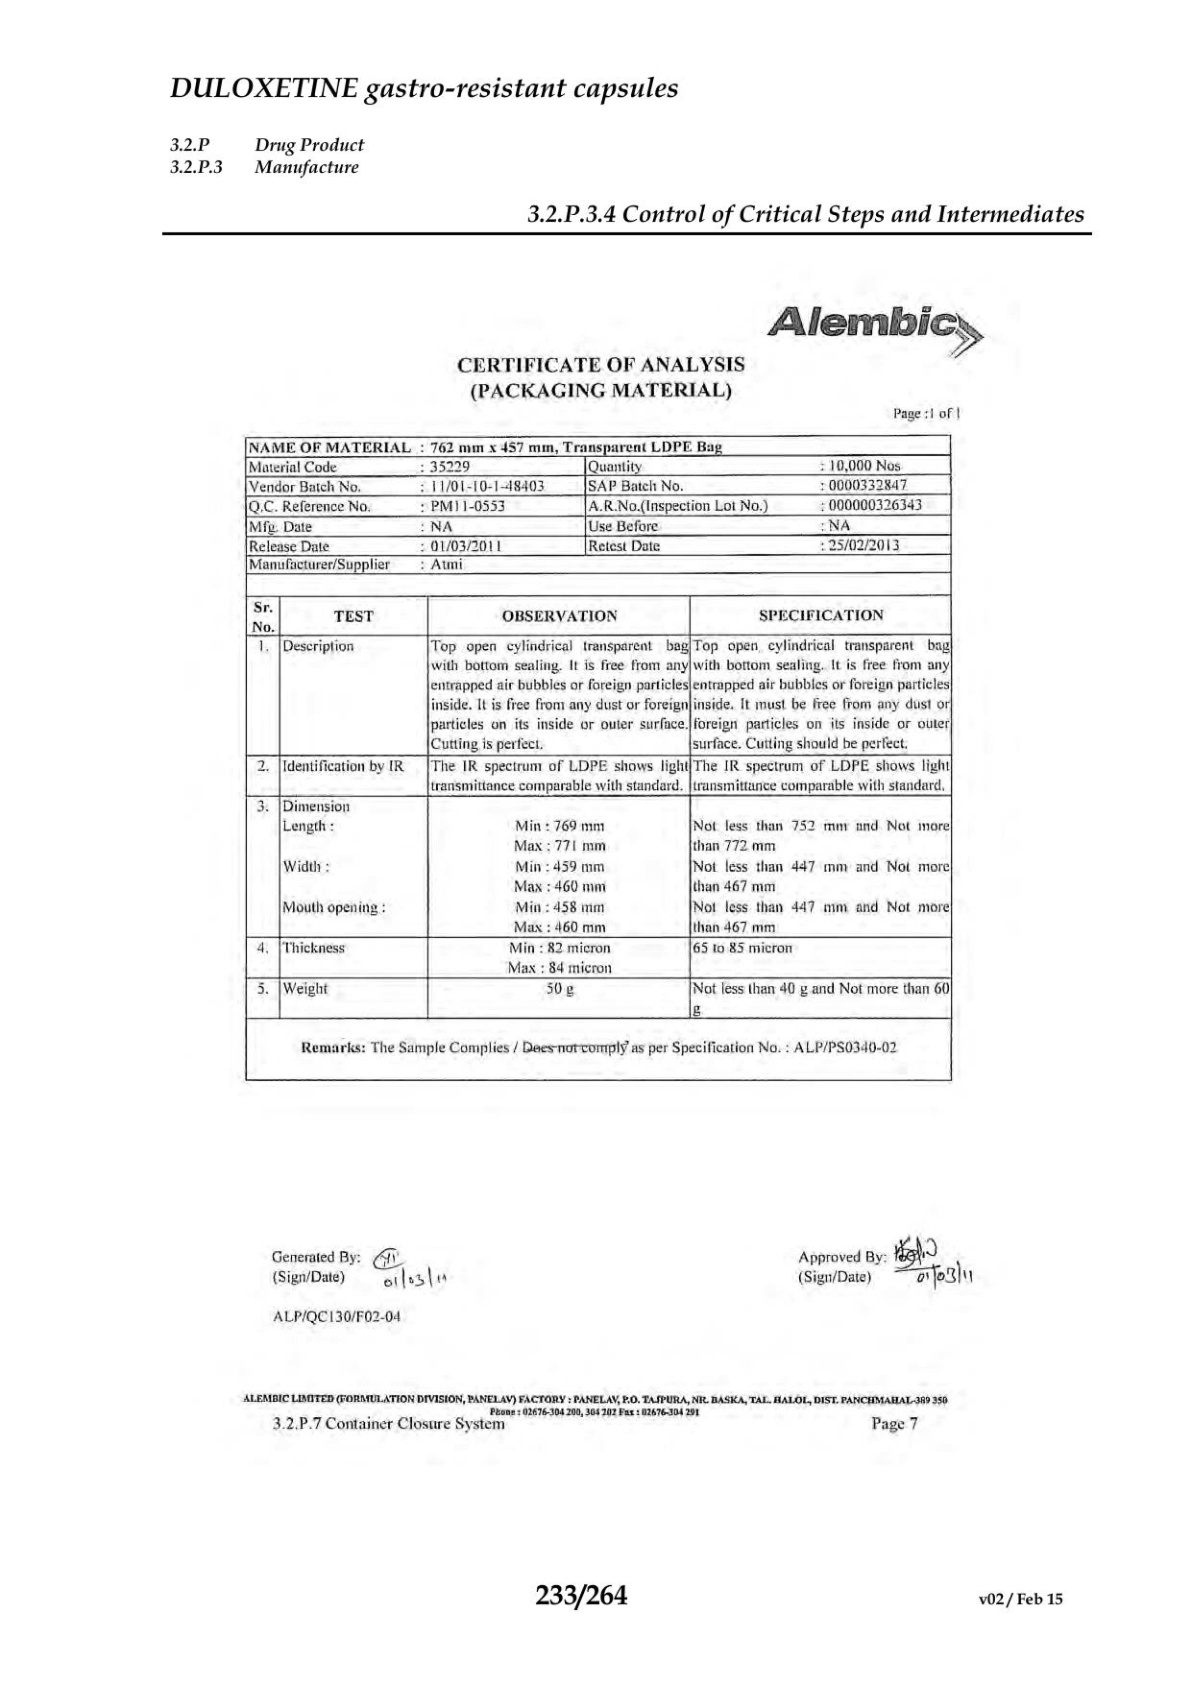merged_cells: (243, 436, 953, 1082)
